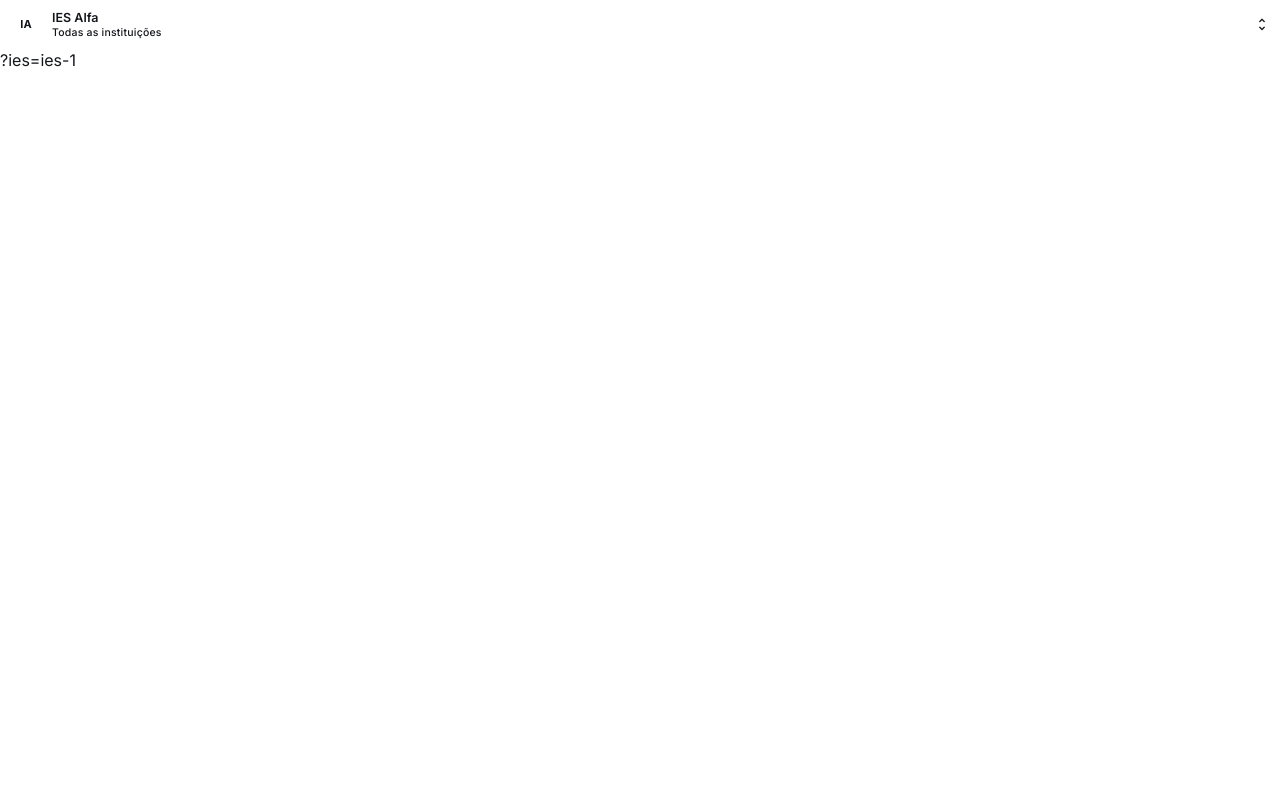
Scenario: SidebarIes (spec §3) › trocar de IES escreve a chave `ies` na URL
This screenshot has width=1280, height=800.
Click the dropdown named "instituição". click: x=75, y=17
box: [0,0,1279,48]
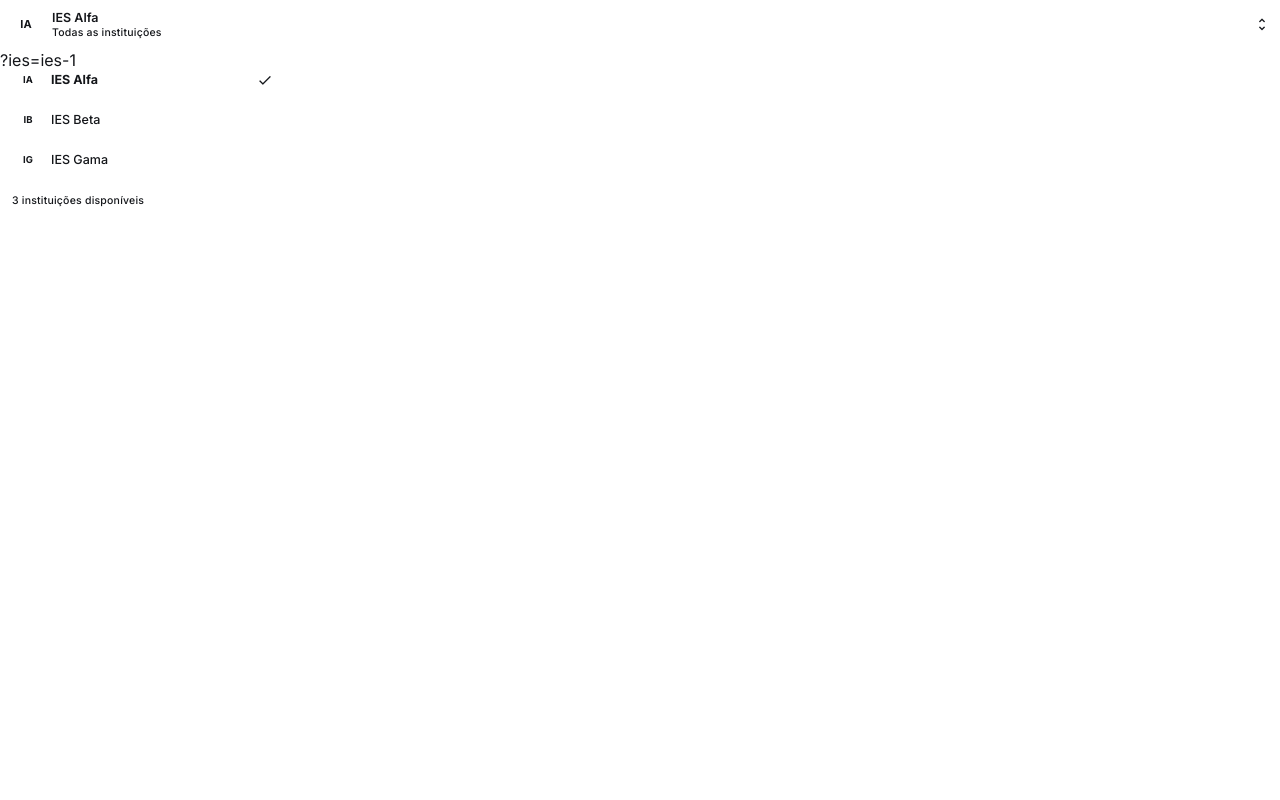
Click the text "IES Beta". click: x=76, y=120
box: [51,112,100,127]
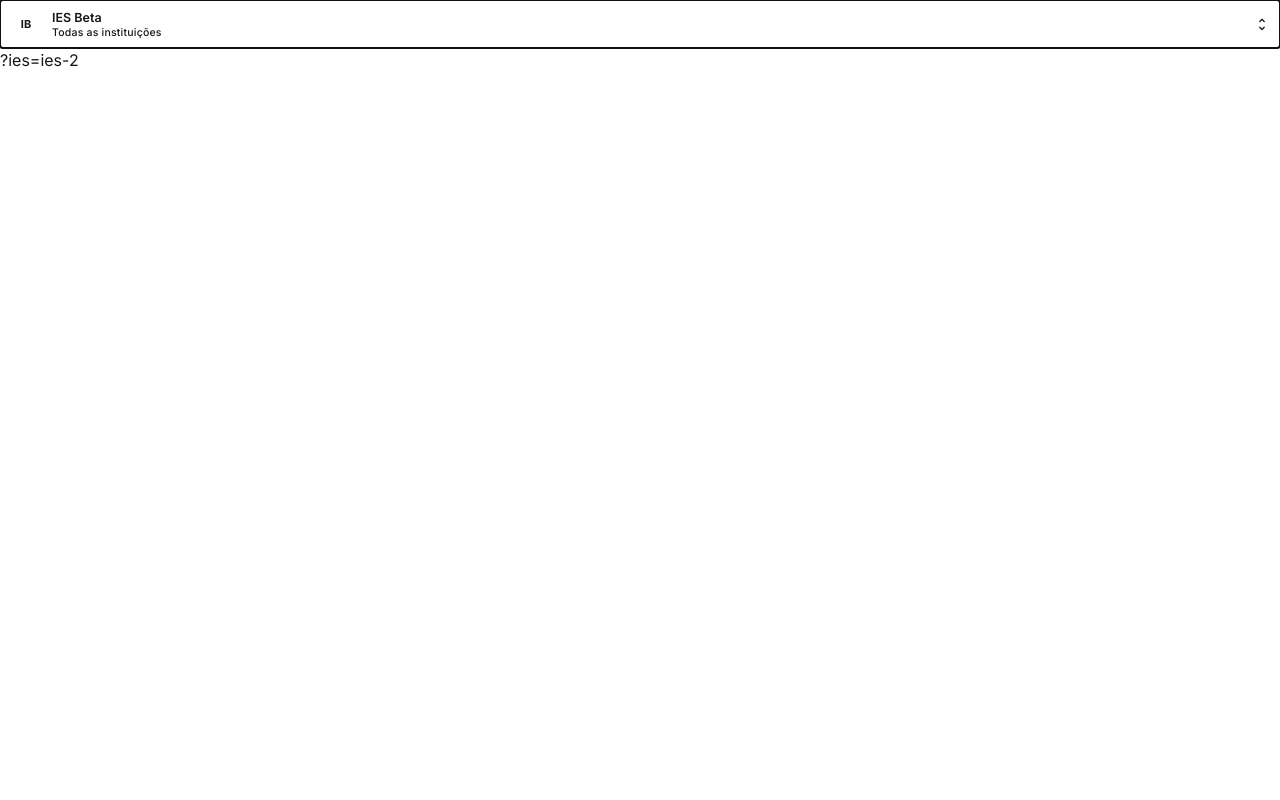
expect the text with test id "search" reads "?ies=ies-2": met, box [0,50,79,70]
